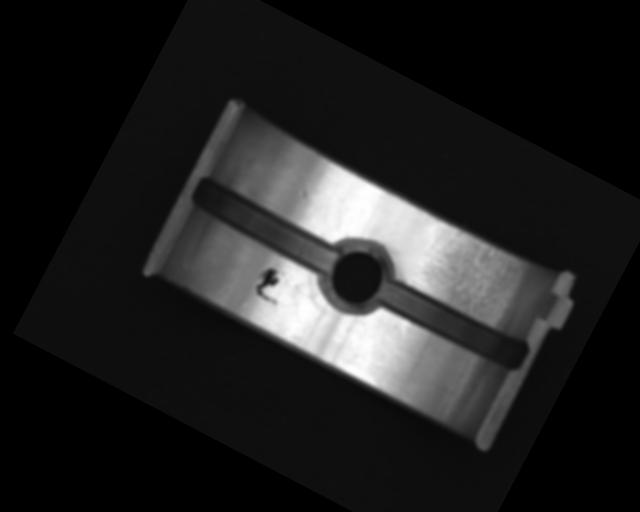blot: (248, 261, 294, 308)
bruise: (297, 188, 309, 199)
gap: (184, 170, 345, 280), (374, 272, 533, 376)
hole: (309, 226, 408, 327)
nick: (393, 316, 413, 338)
scratch: (402, 214, 539, 336)
